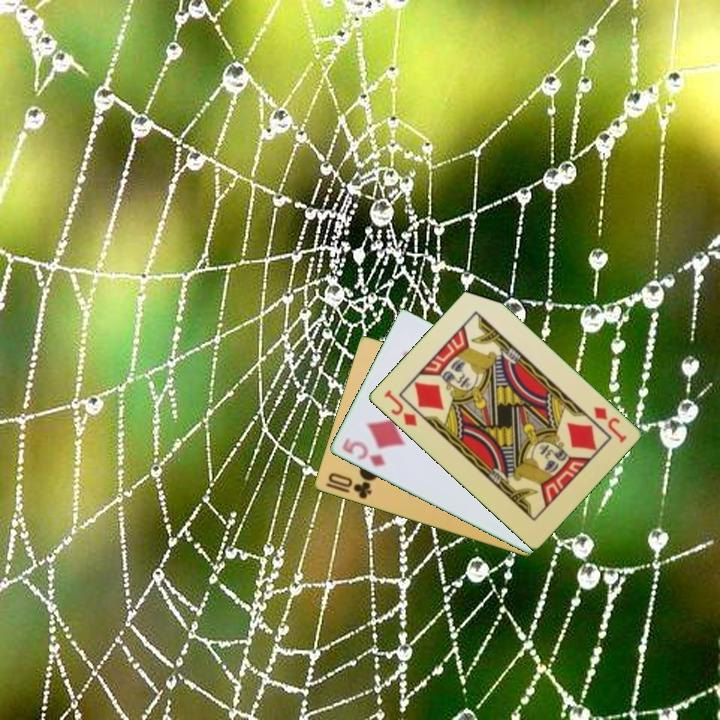10c: (324, 469, 374, 502)
5d: (338, 434, 389, 470)
Jd: (380, 386, 420, 429), (590, 403, 629, 446)
